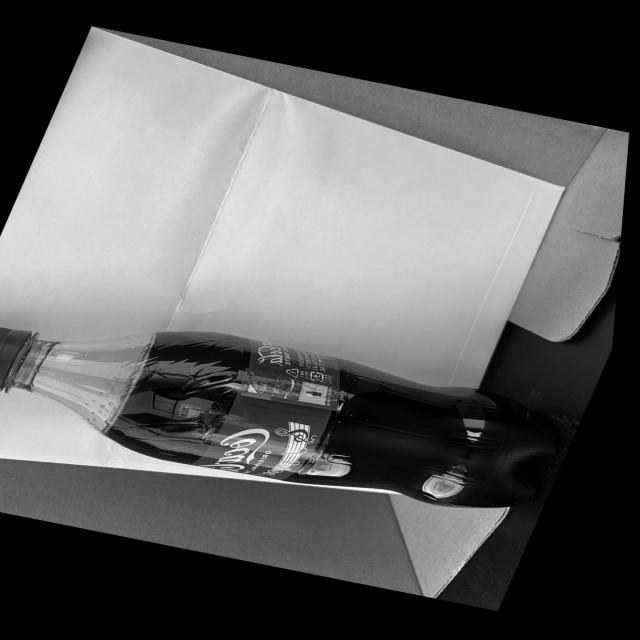high: (0, 328, 555, 508)
